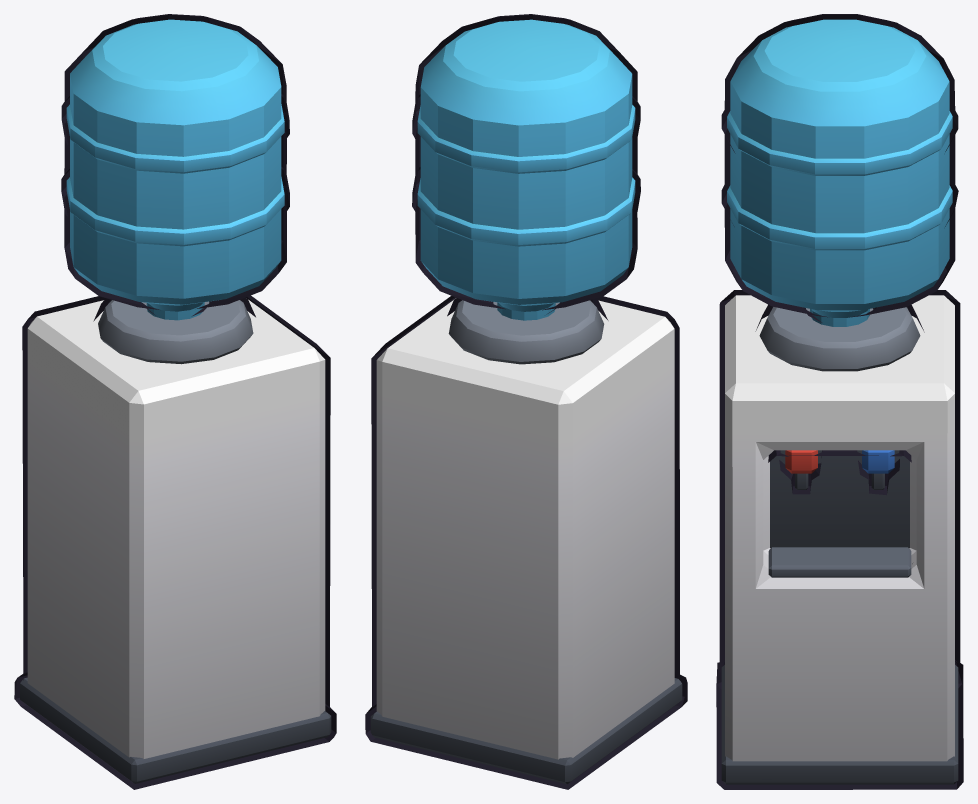
File: Water_Cooler_Outline.fbx
3 renders of one model, left to right at view 1: azimuth 30°, elevation 25°; view 2: azimuth 150°, elevation 25°; view 3: azimuth 270°, elevation 25°, orthographic. The views are drawn at different scales.
Visible parts, largest first — view 1: Water_Cooler; view 2: Water_Cooler; view 3: Water_Cooler.
Boxes of the visible parts, x1=… form: Water_Cooler: x1=14, y1=14, x2=336, y2=789; Water_Cooler: x1=365, y1=14, x2=687, y2=789; Water_Cooler: x1=716, y1=14, x2=963, y2=789.
Bounding box in the file's own units: 2.03 × 6.37 × 2.03.
1 material, 1 textured.
